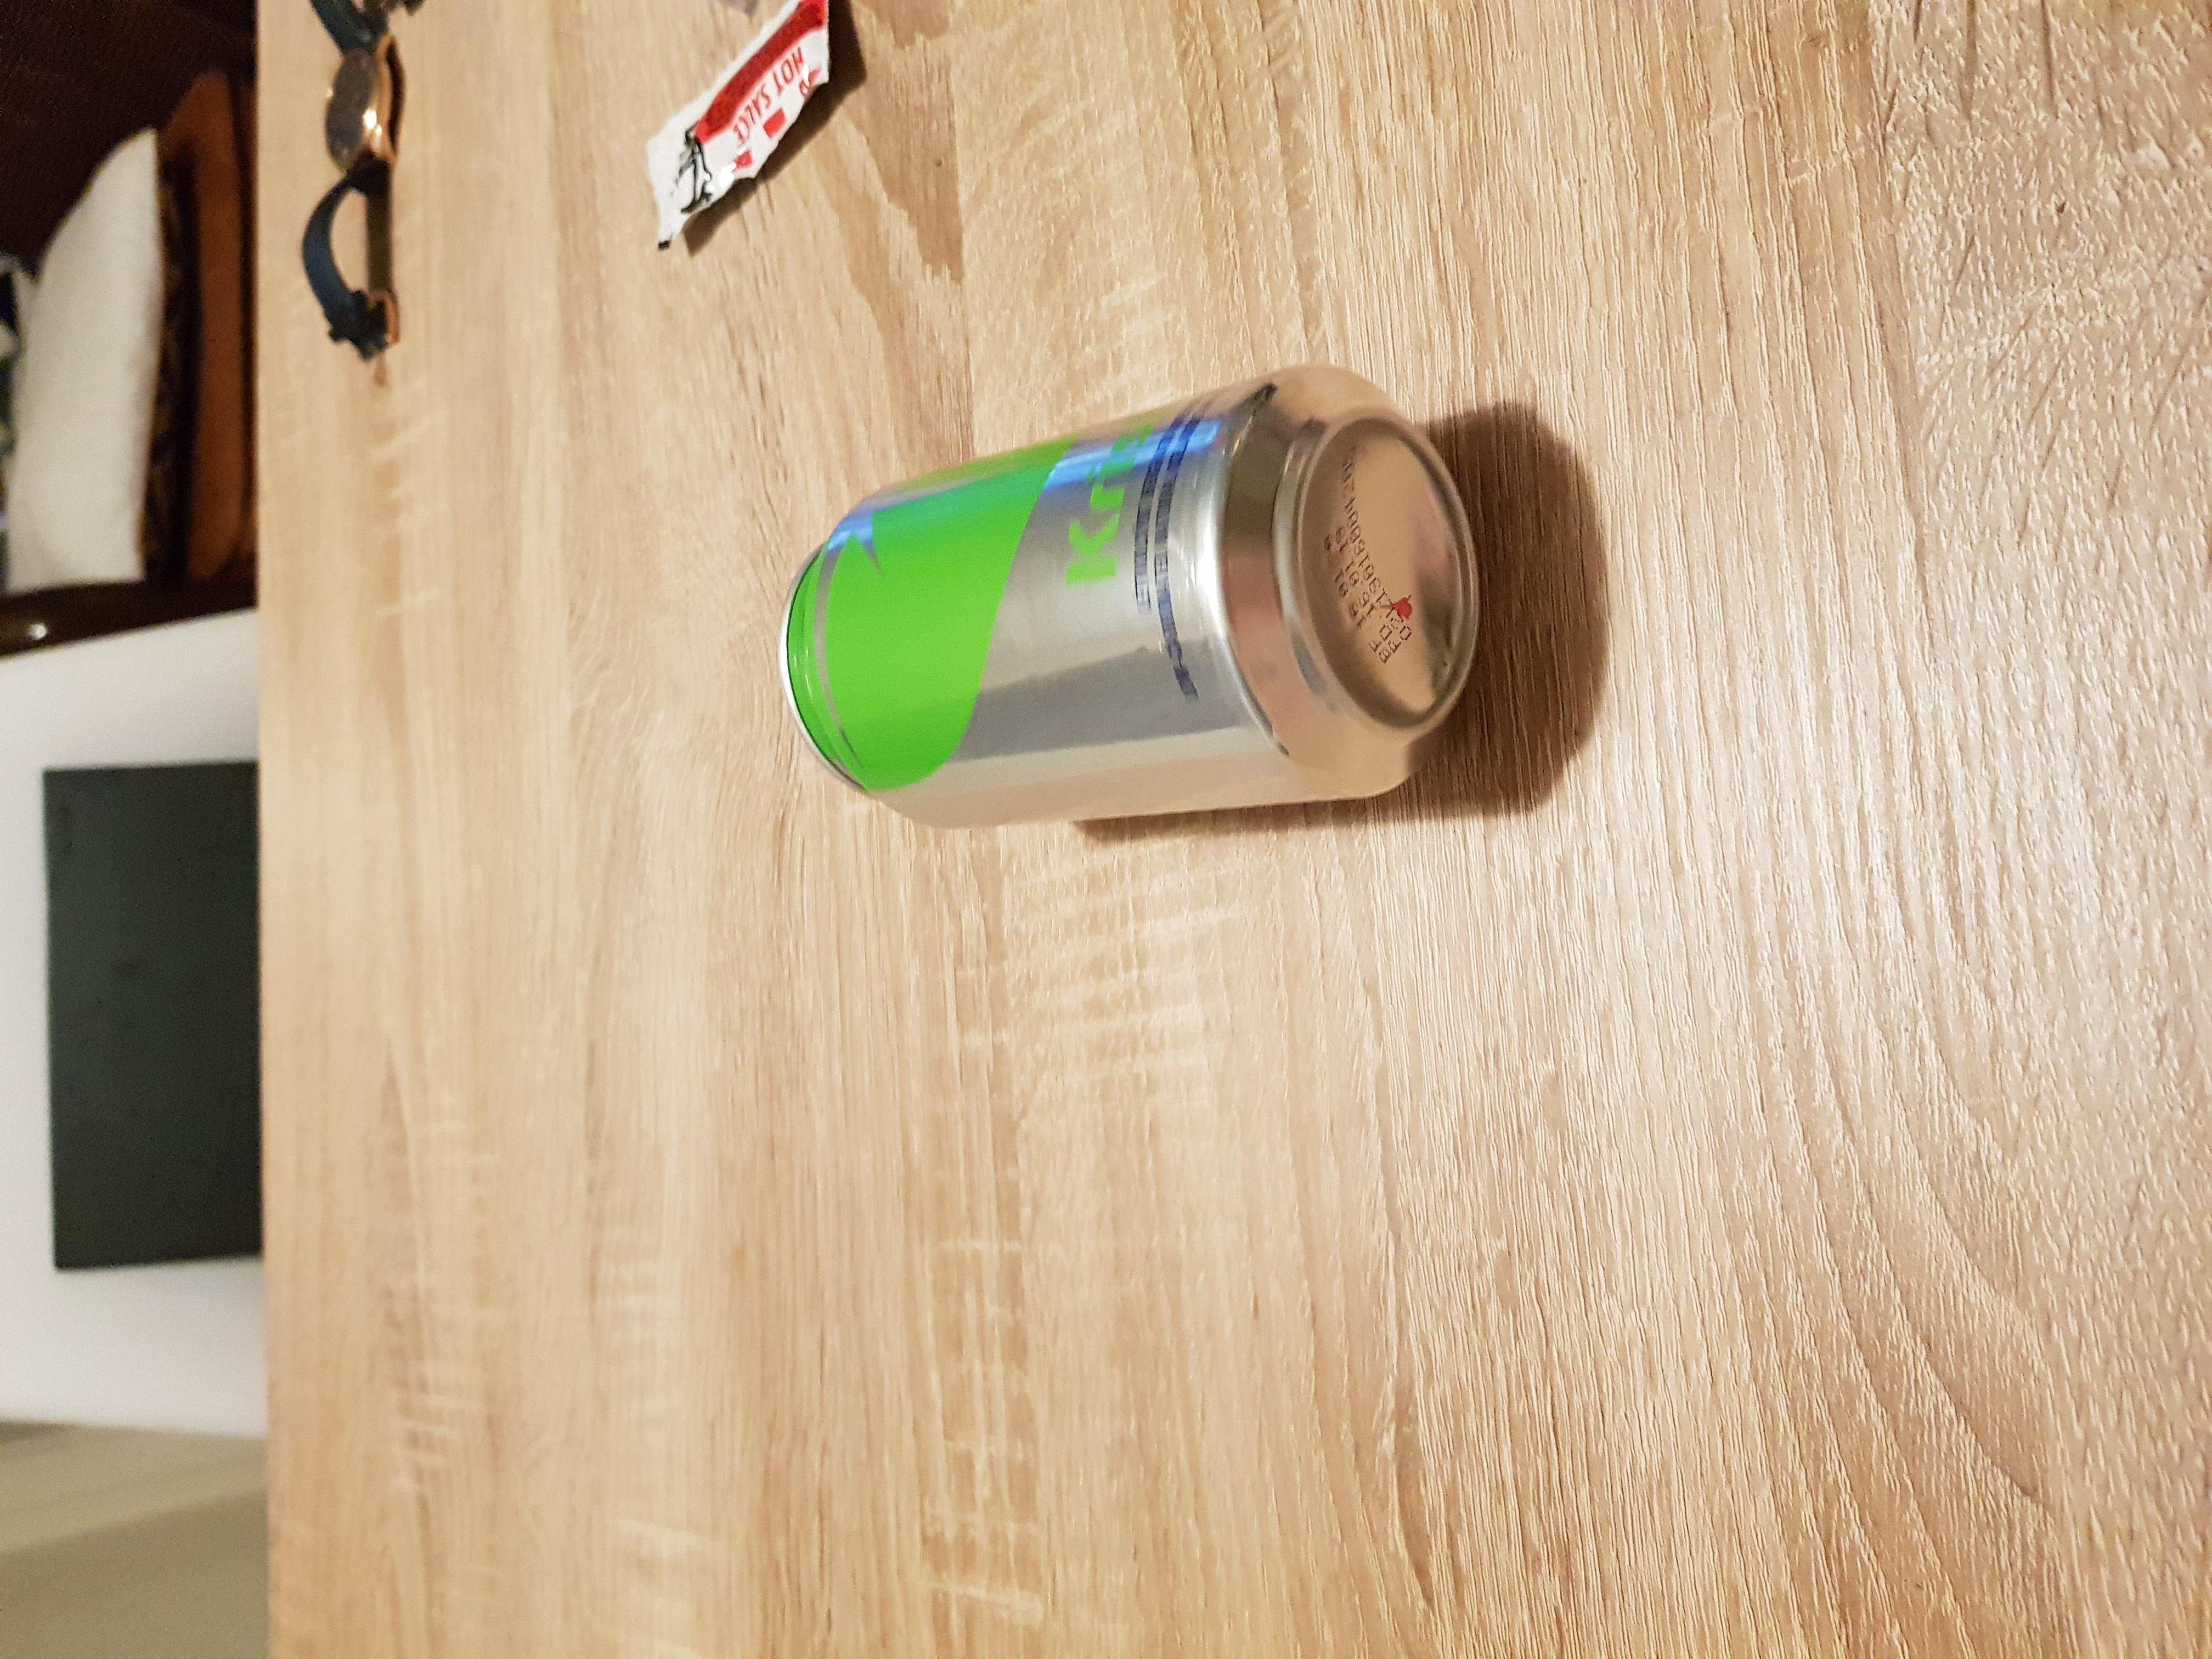can: (772, 364, 1493, 824)
